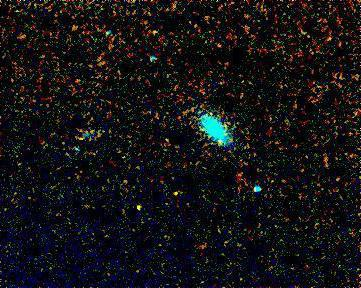star: (123, 192, 153, 222)
